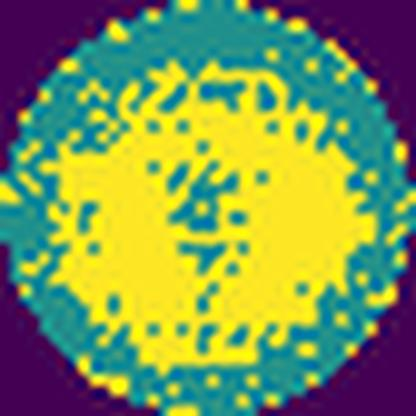Donut: (50, 62, 378, 369)
